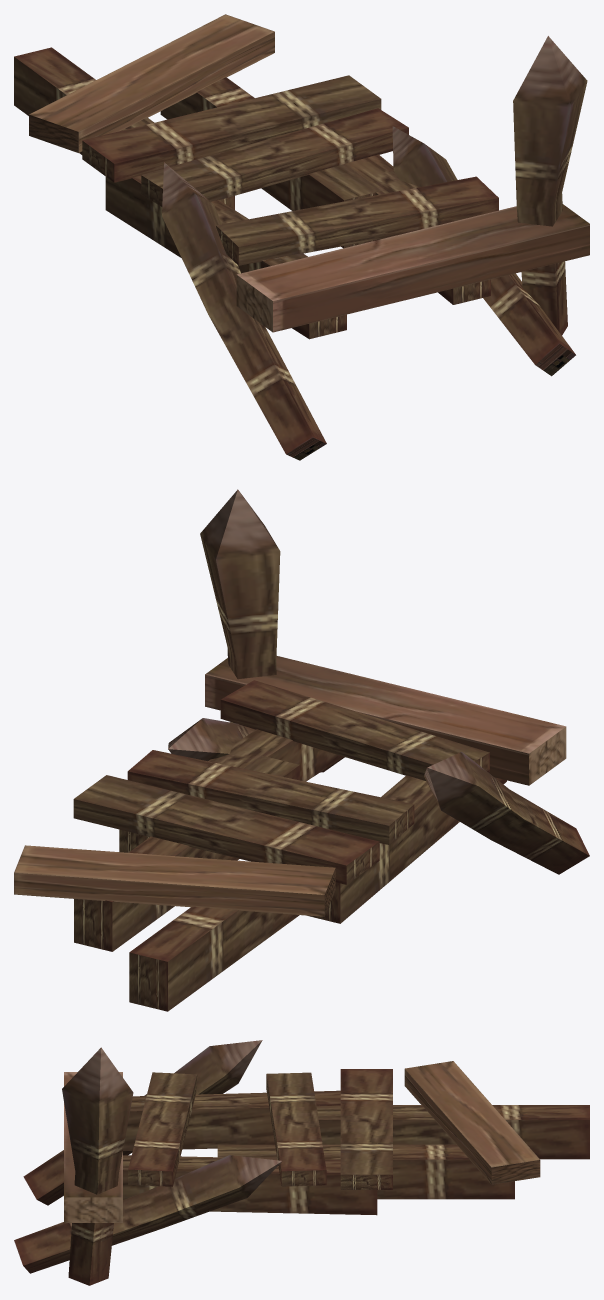
File: FB6_duanqiao01.FBX
3 views of the same model, one above another, from view 1: azimuth 30°, elevation 25°; view 2: azimuth 150°, elevation 25°; view 3: azimuth 270°, elevation 25° (orthographic). The views are drawn at different scales.
Parts seen in each view (by area): view 1: FB6_duanqiao01; view 2: FB6_duanqiao01; view 3: FB6_duanqiao01.
Boxes of the visible parts, left/top/right/bottom form: FB6_duanqiao01: left=14, top=14, right=589, bottom=460; FB6_duanqiao01: left=14, top=489, right=589, bottom=1011; FB6_duanqiao01: left=14, top=1040, right=589, bottom=1285.
Bounding box in the file's own units: 331 × 301 × 583.
1 material, 1 textured.
